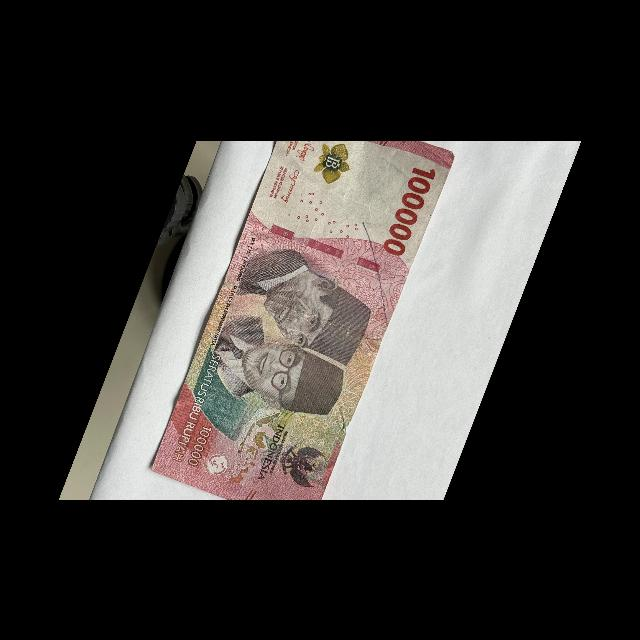Palsu-100k: (144, 76, 464, 536)
Tinta-Palsu-100k: (310, 132, 359, 190)
